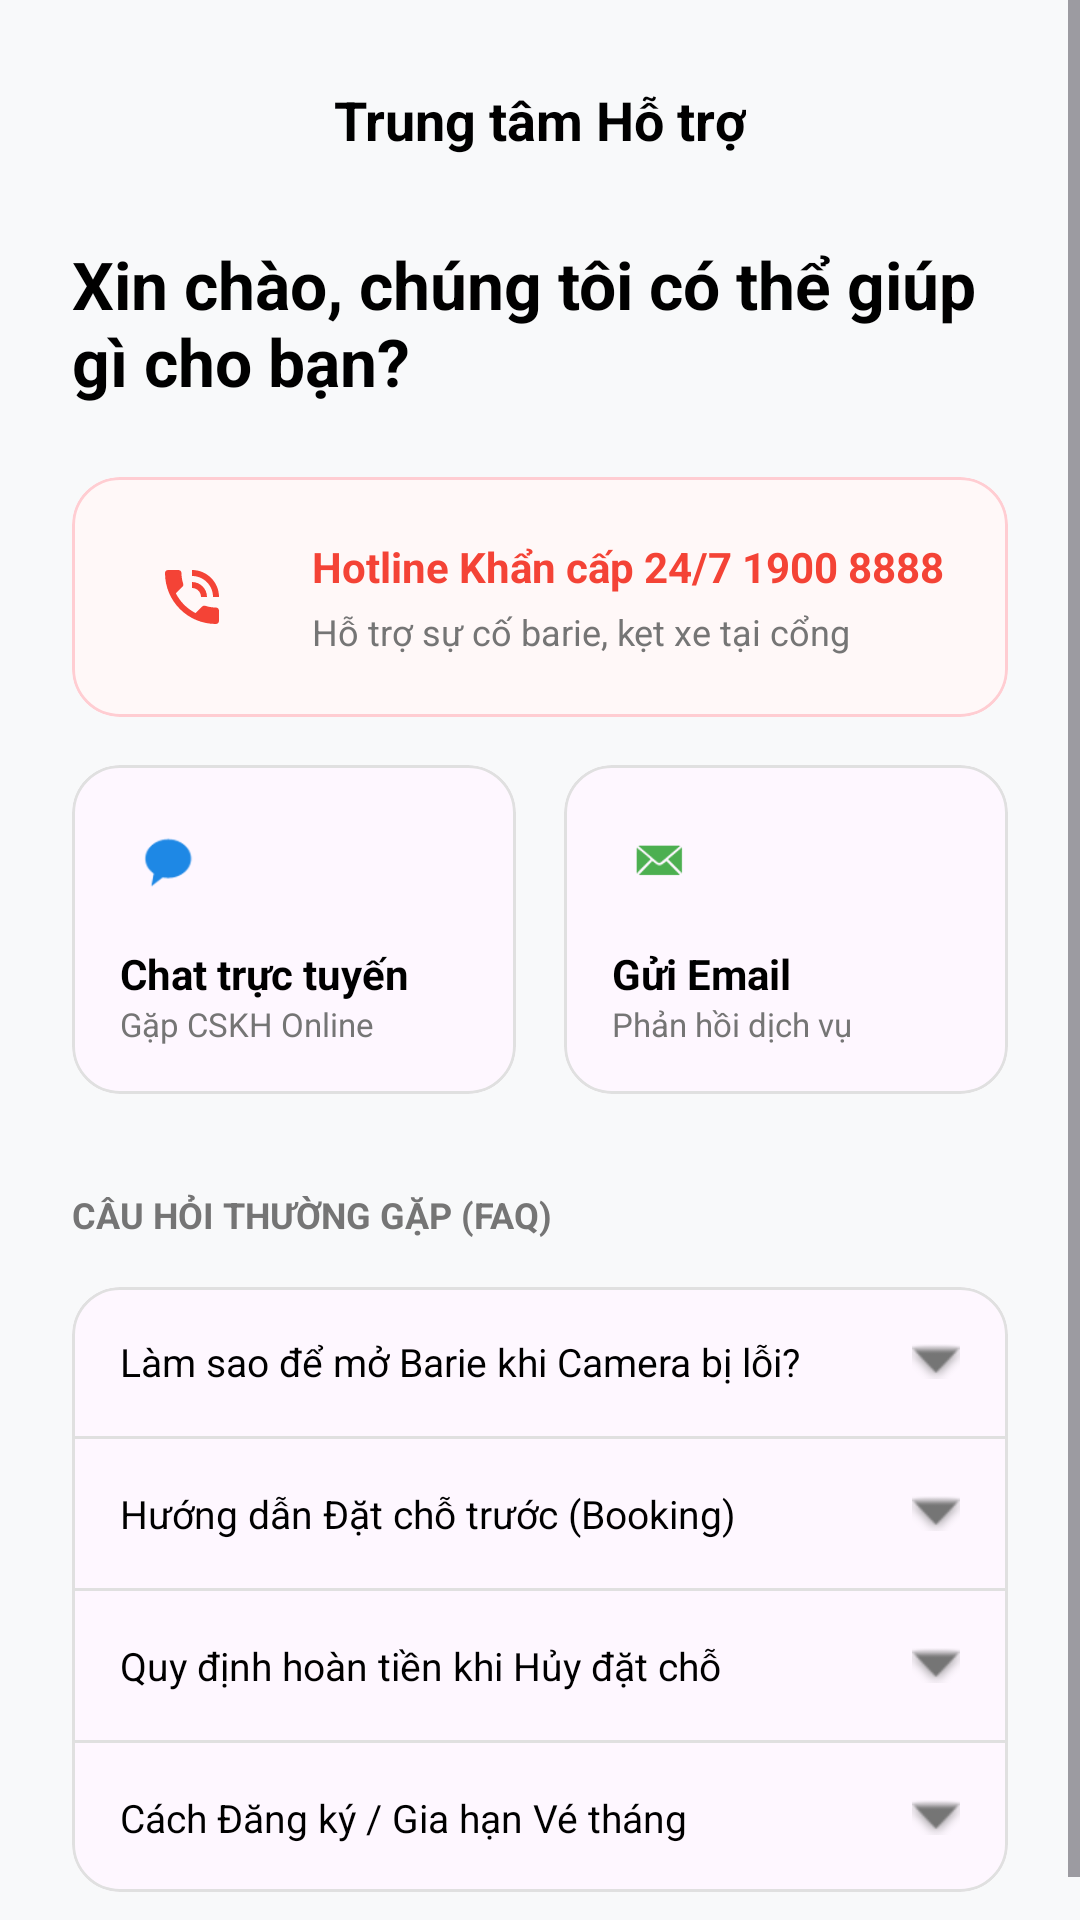

Point at icon controls on the screen. Image size 1080w x 1920h, points as point (x, y).
arrow down float: point (936, 1360), point (936, 1512), point (936, 1664), point (936, 1816)
speakerphone: point (192, 597)
sym action chat: point (168, 862)
sym action email: point (659, 860)
